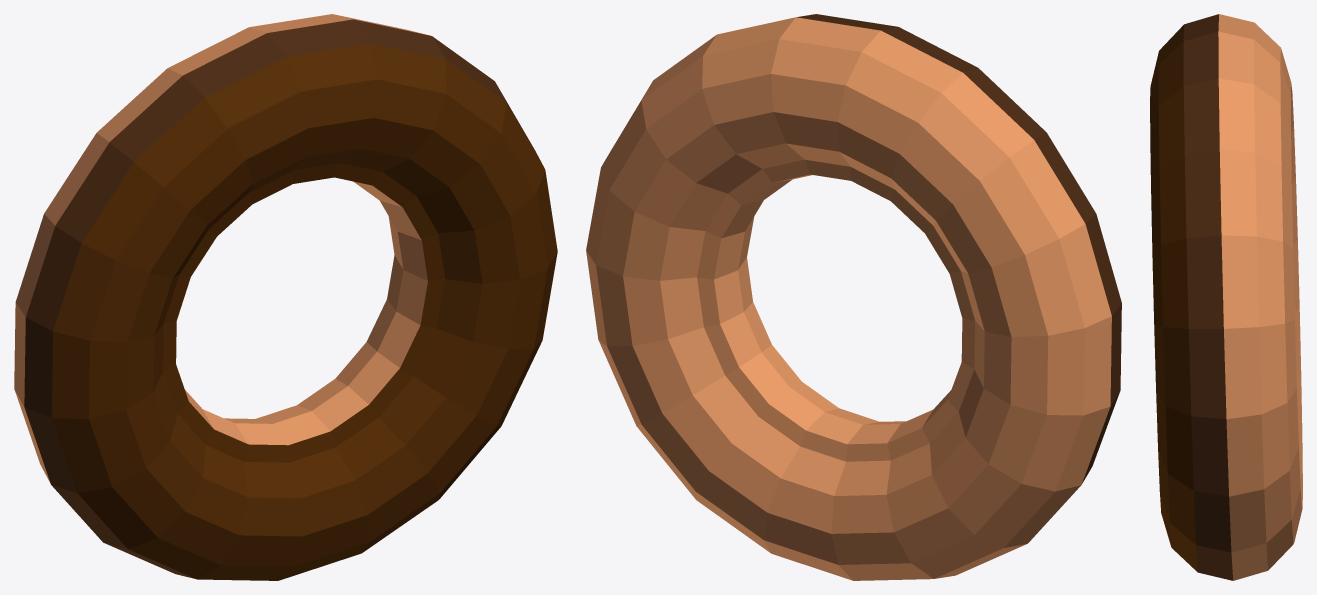
Rendered from donut3.fbx.
3 renders of one model, left to right at view 1: azimuth 30°, elevation 25°; view 2: azimuth 150°, elevation 25°; view 3: azimuth 270°, elevation 25°, orthographic. The views are drawn at different scales.
Visible parts, largest first — view 1: Torus.001; view 2: Torus.001; view 3: Torus.001.
Boxes of the visible parts, x1,y1,x2,y2 form: Torus.001: (14, 14, 557, 580); Torus.001: (586, 14, 1121, 580); Torus.001: (1150, 14, 1302, 580).
Size of the model in its own units: 169 by 169 by 45.59.
